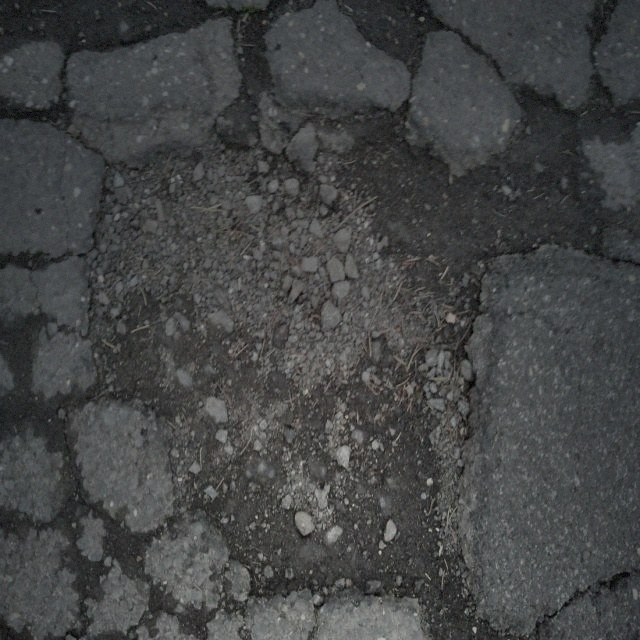pothole: (86, 77, 601, 614)
